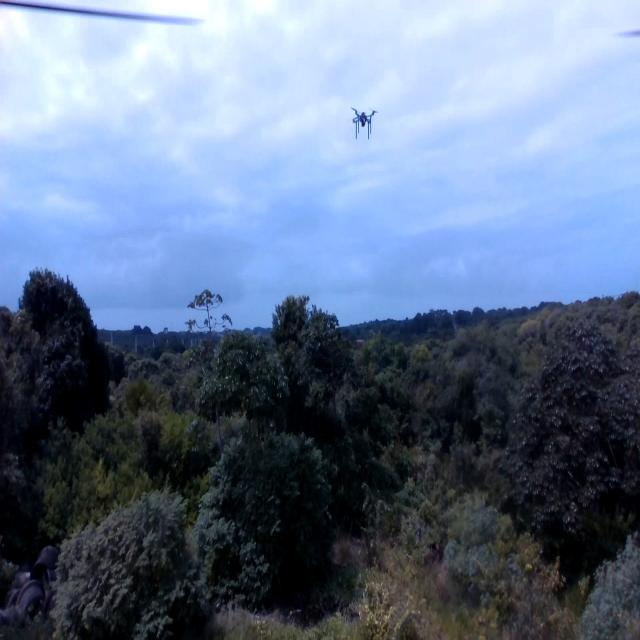-uav-: (341, 92, 384, 152)
